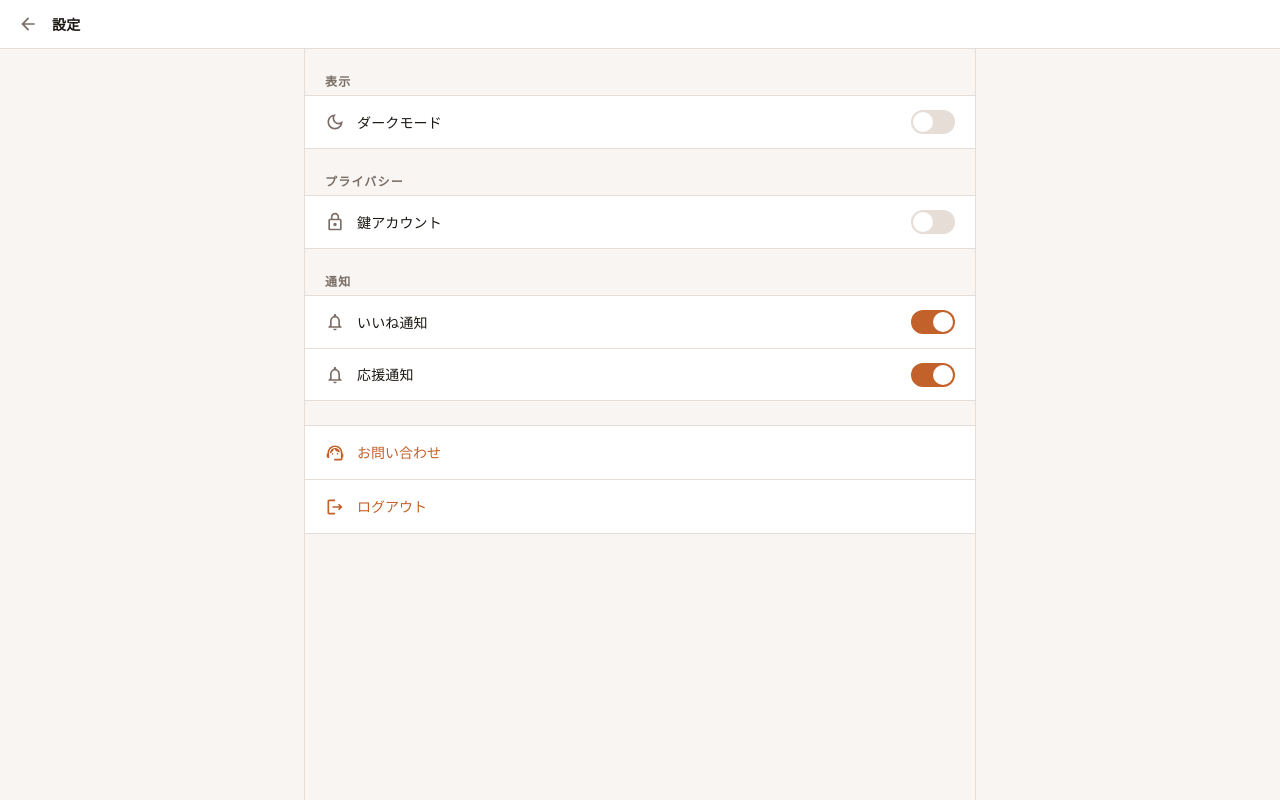
it: SettingsPage › ダークモードで CSS トークンと MUI テーマを切り替える
Click the switch named "ダークモード": [933, 122] box [911, 110, 955, 134]
(page scrolled)
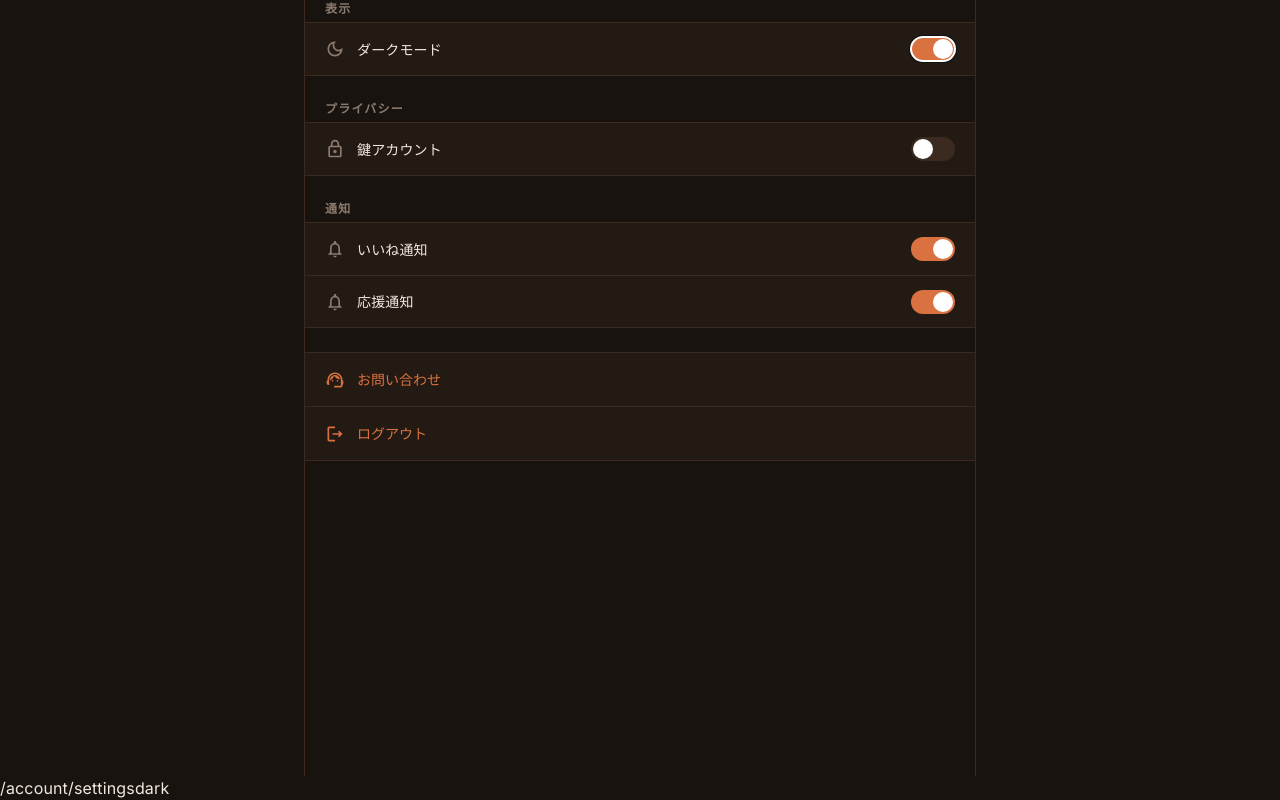
Check: the text "dark" is shown, box [135, 778, 169, 798]
